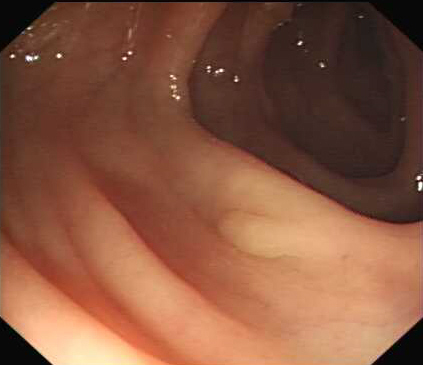adenoma: (214, 207, 296, 261)
